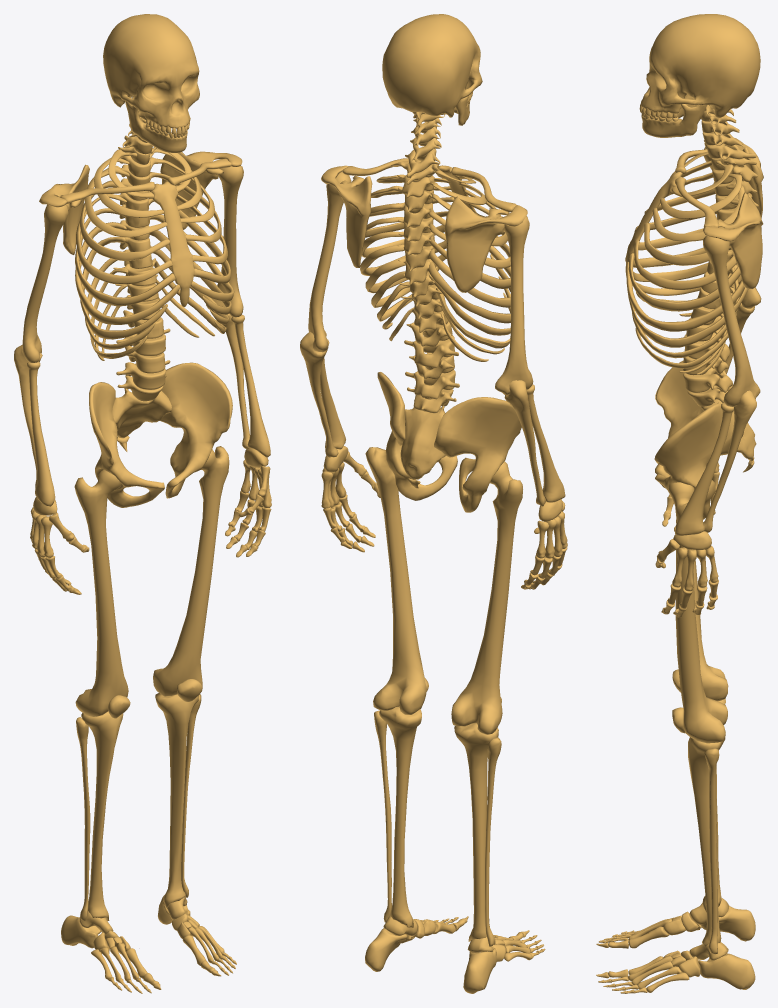
Rendered from Sistema Oseo.gltf.
3 views of the same model, side by side, from view 1: azimuth 30°, elevation 25°; view 2: azimuth 150°, elevation 25°; view 3: azimuth 270°, elevation 25° (orthographic). The views are drawn at different scales.
Parts seen in each view (by area): view 1: node_id30; view 2: node_id30; view 3: node_id30.
Part boxes in pixels (box(x1,y1,x2,y2)): node_id30: box(14, 14, 271, 993); node_id30: box(300, 14, 567, 993); node_id30: box(596, 14, 763, 993).
Size of the model in its own units: 2.69 by 10.42 by 1.66.
